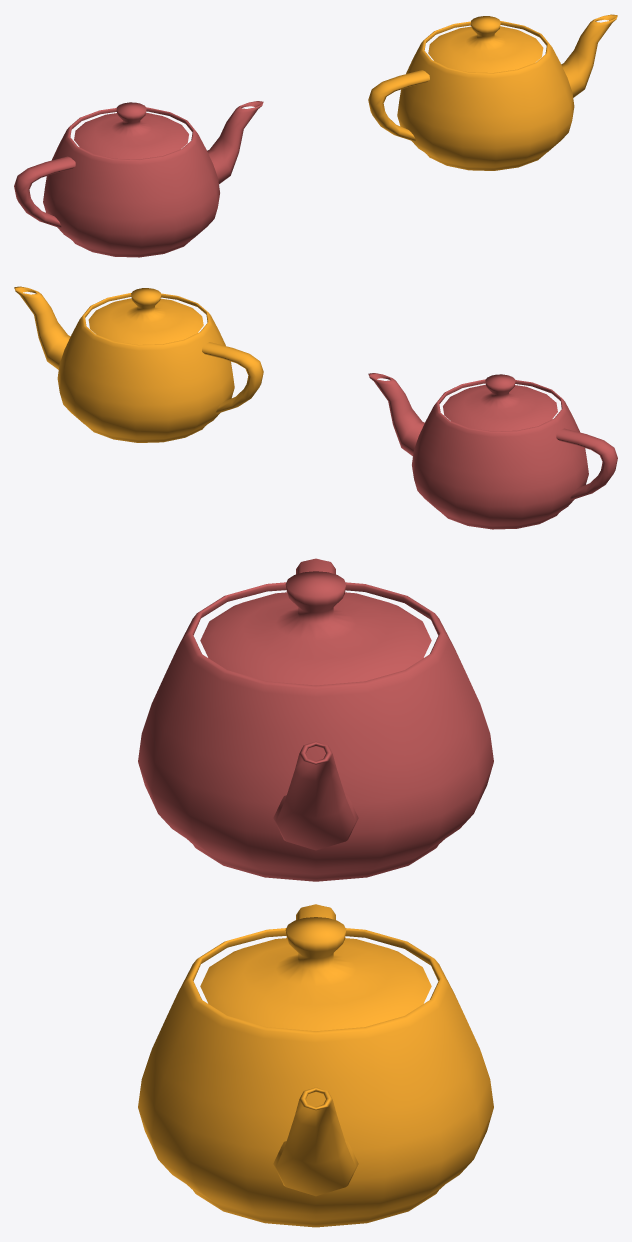
The model's file is ceshi.gltf.
3 renders of one model, top to bottom at view 1: azimuth 30°, elevation 25°; view 2: azimuth 150°, elevation 25°; view 3: azimuth 270°, elevation 25°, orthographic. The views are drawn at different scales.
Visible parts, largest first — view 1: Teapot001, Teapot002; view 2: Teapot001, Teapot002; view 3: Teapot001, Teapot002.
Part boxes in pixels (x1,y1,x2,y2): Teapot001: [14, 101, 263, 257]; Teapot002: [368, 14, 617, 170]; Teapot001: [368, 373, 617, 529]; Teapot002: [14, 286, 263, 442]; Teapot001: [138, 558, 493, 881]; Teapot002: [138, 904, 493, 1227].
Size of the model in its own units: 295 by 59.4 by 75.43.
2 materials, 2 textured.
